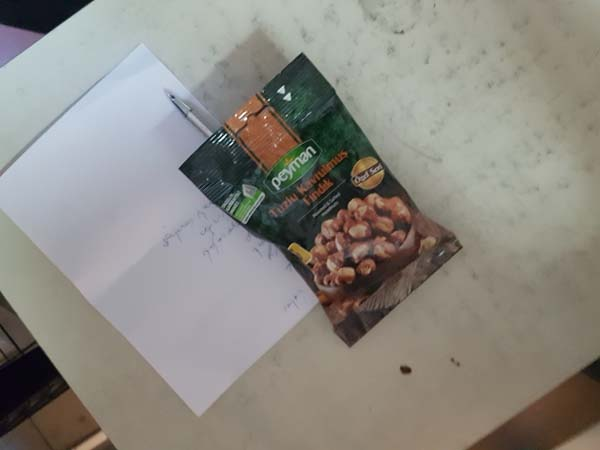peysankavrulmusfindik: (193, 50, 468, 350)
